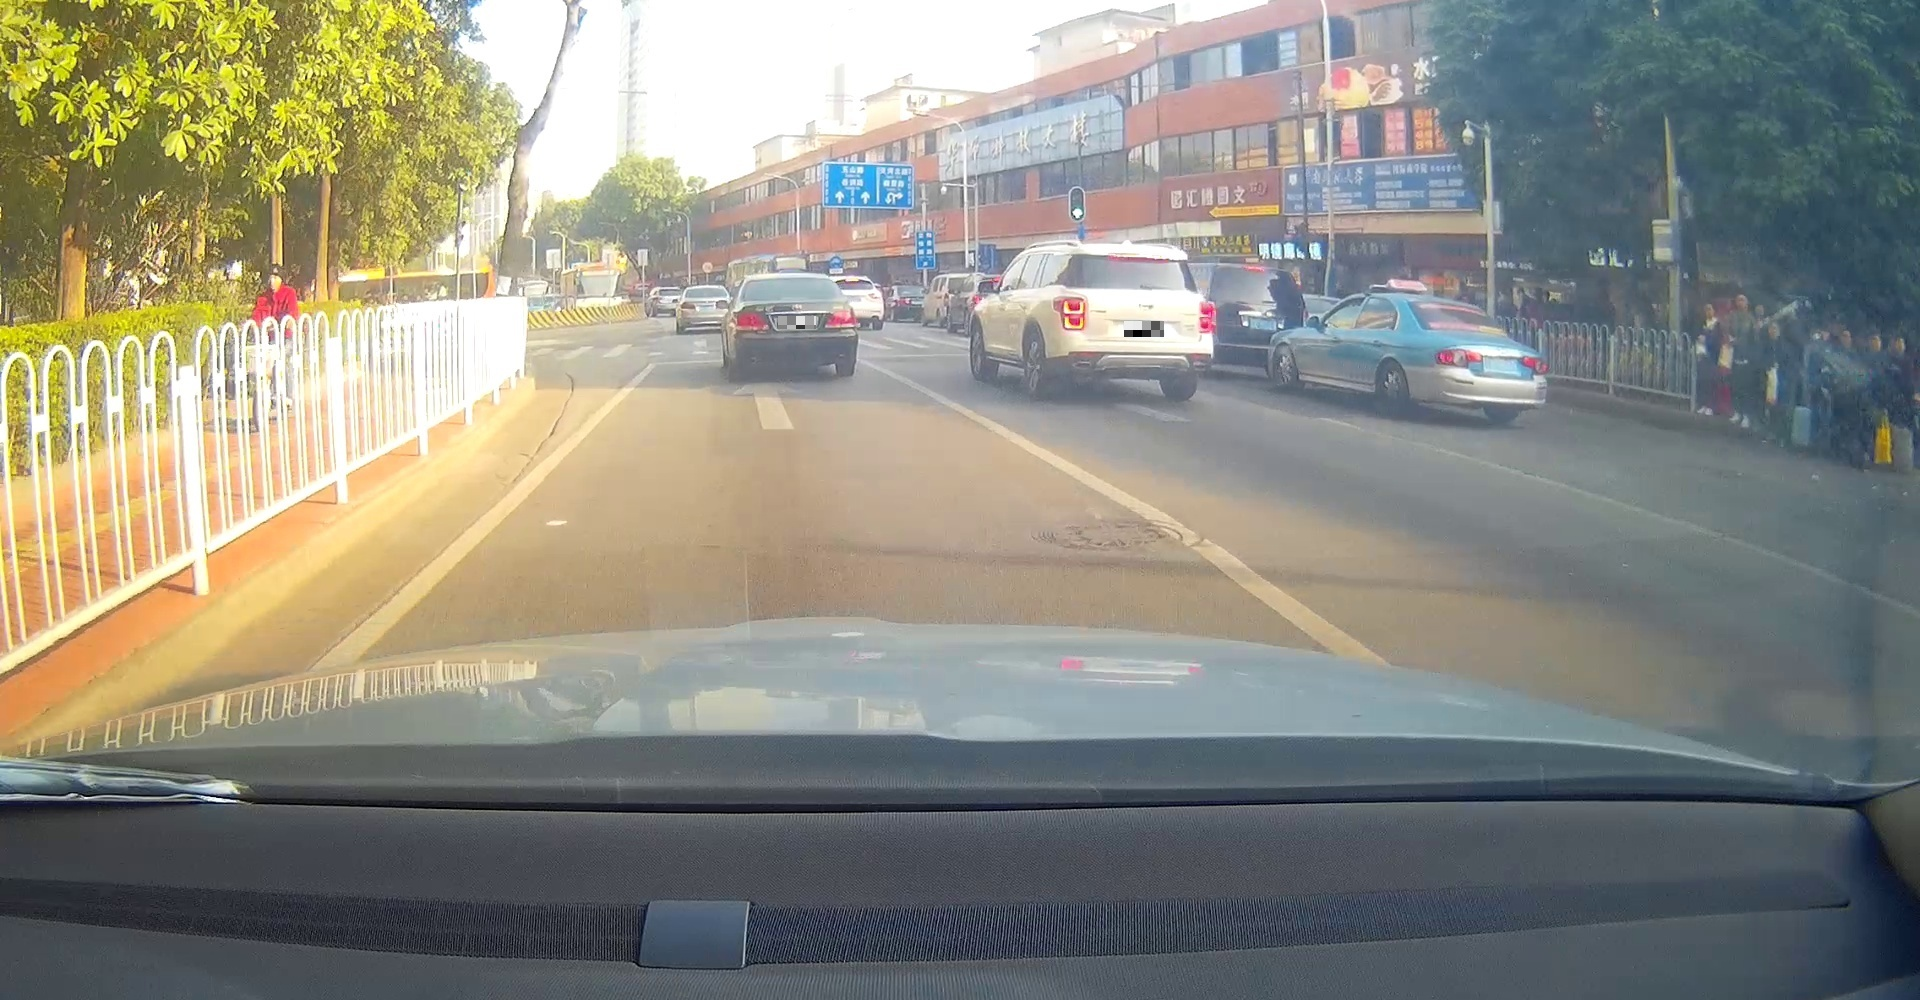L_light: (1053, 297, 1090, 330), (1432, 349, 1484, 369), (735, 310, 770, 330)
R_light: (824, 308, 858, 327), (1519, 353, 1548, 374), (1197, 301, 1217, 332)
T_light: (1112, 256, 1152, 266), (781, 294, 811, 301), (1444, 303, 1468, 310)
day-no: (1050, 253, 1218, 398), (1404, 298, 1548, 421), (731, 275, 858, 383)
plate_1: (778, 316, 817, 329)
plate_2: (1124, 321, 1164, 338)
